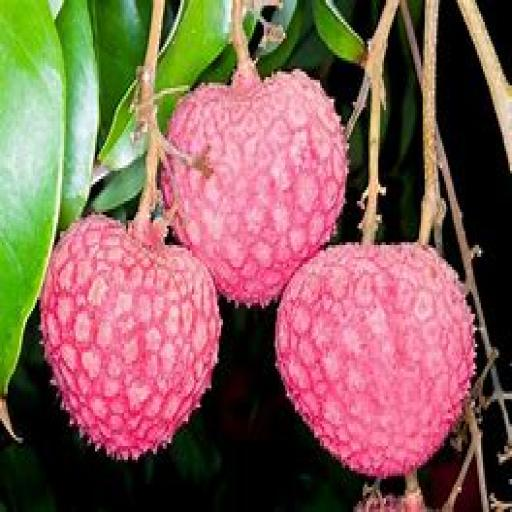lychee: (276, 243, 475, 476), (41, 215, 221, 459), (161, 69, 347, 305), (353, 493, 426, 511)
